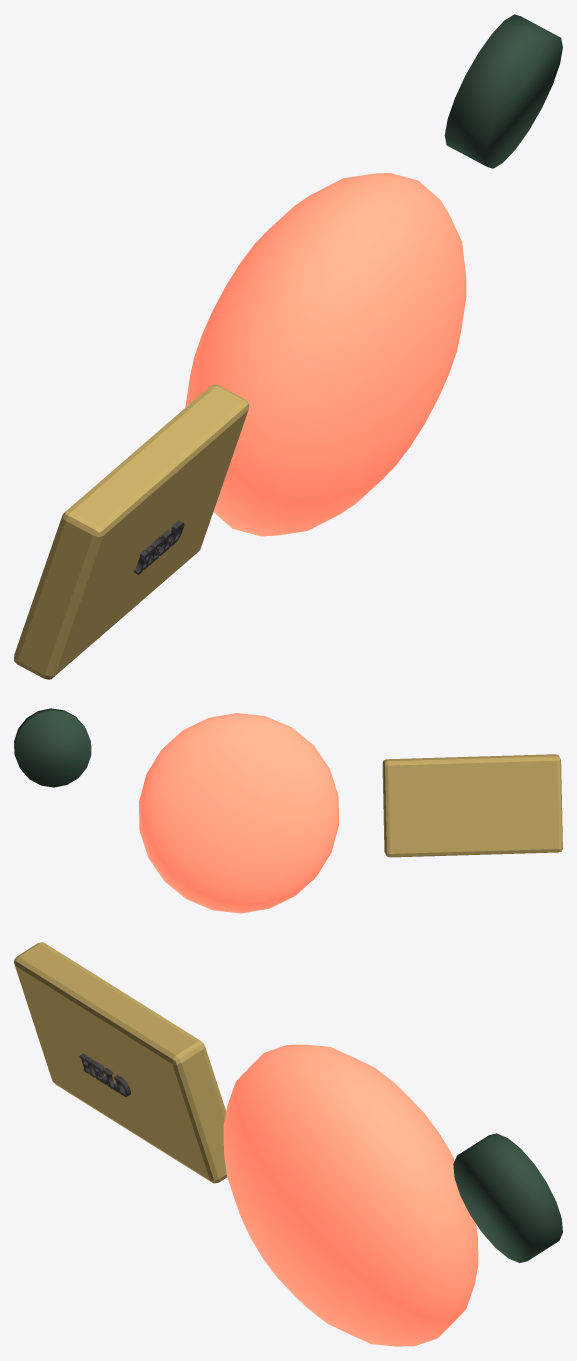
The model's file is retained.glb.
The picture shows the model from 3 angles, top to bottom: view 1: azimuth 30°, elevation 25°; view 2: azimuth 150°, elevation 25°; view 3: azimuth 270°, elevation 25°; orthographic projection. The views are drawn at different scales.
Visible parts, largest first — view 1: mqb_rt_dome, mqb_held_tab, mqb_pip, mqb_held_txt; view 2: mqb_rt_dome, mqb_held_tab, mqb_pip; view 3: mqb_rt_dome, mqb_held_tab, mqb_pip, mqb_held_txt.
Part boxes in pixels (x1,y1,x2,y2): mqb_rt_dome: (185,173,466,536); mqb_held_tab: (14,384,248,679); mqb_pip: (444,14,562,168); mqb_held_txt: (134,520,184,574); mqb_rt_dome: (139,713,338,913); mqb_held_tab: (382,754,562,857); mqb_pip: (14,708,91,787); mqb_rt_dome: (223,1044,478,1346); mqb_held_tab: (14,942,227,1183); mqb_pip: (453,1133,562,1262); mqb_held_txt: (79,1053,130,1096).
Size of the model in its own units: 0.0827 by 0.0365 by 0.0574.
